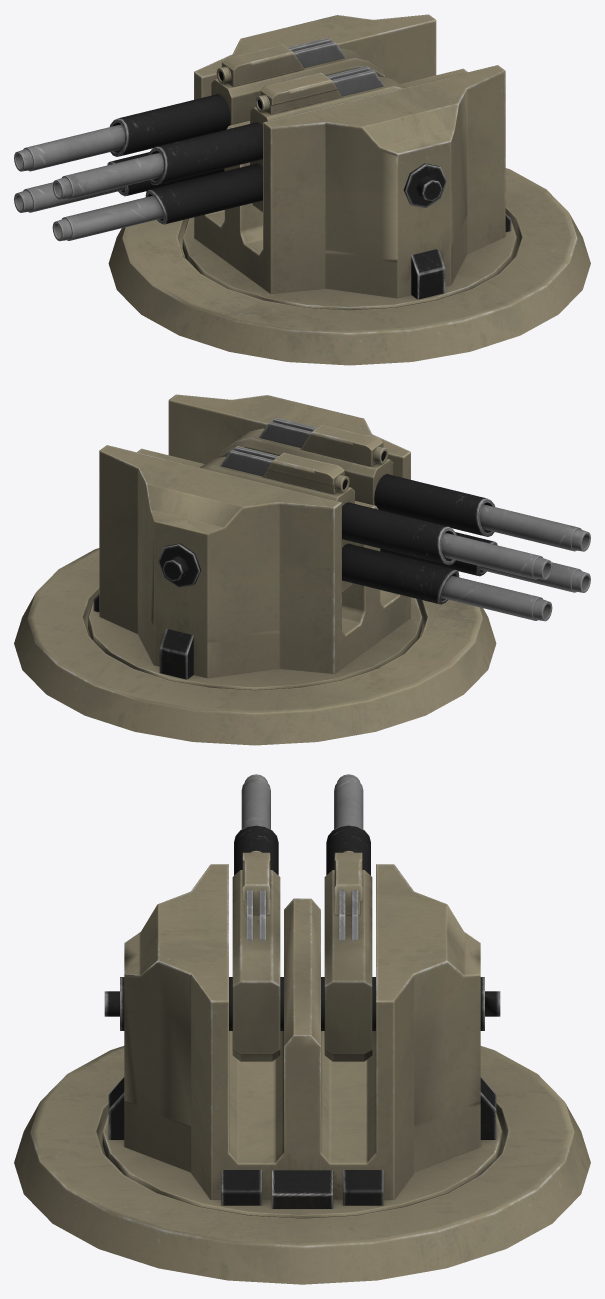
Rendered from turret.dae.
The picture shows the model from 3 angles, top to bottom: view 1: azimuth 30°, elevation 25°; view 2: azimuth 150°, elevation 25°; view 3: azimuth 270°, elevation 25°; orthographic projection. The views are drawn at different scales.
Parts seen in each view (by area): view 1: Sci Fi AA Turret; view 2: Sci Fi AA Turret; view 3: Sci Fi AA Turret.
Boxes of the visible parts, x1,y1,x2,y2 form: Sci Fi AA Turret: (14, 14, 590, 365); Sci Fi AA Turret: (14, 394, 590, 745); Sci Fi AA Turret: (14, 774, 590, 1284).
Bounding box in the file's own units: 341 × 274 × 132.
